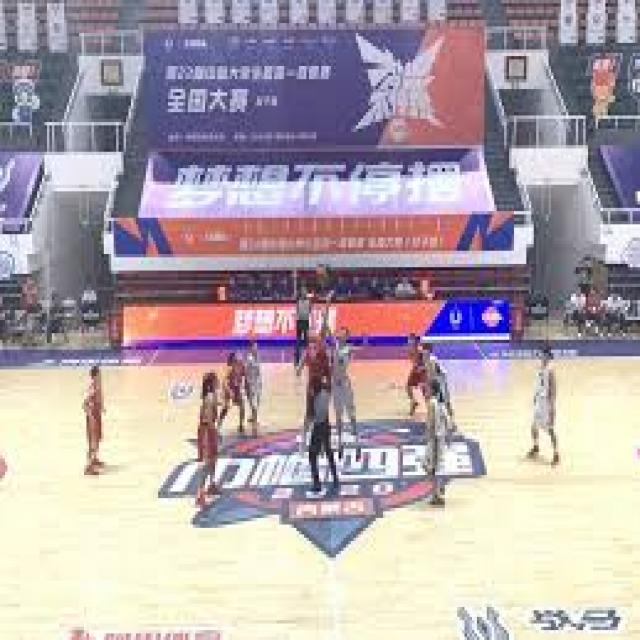rim: (314, 260, 332, 290)
